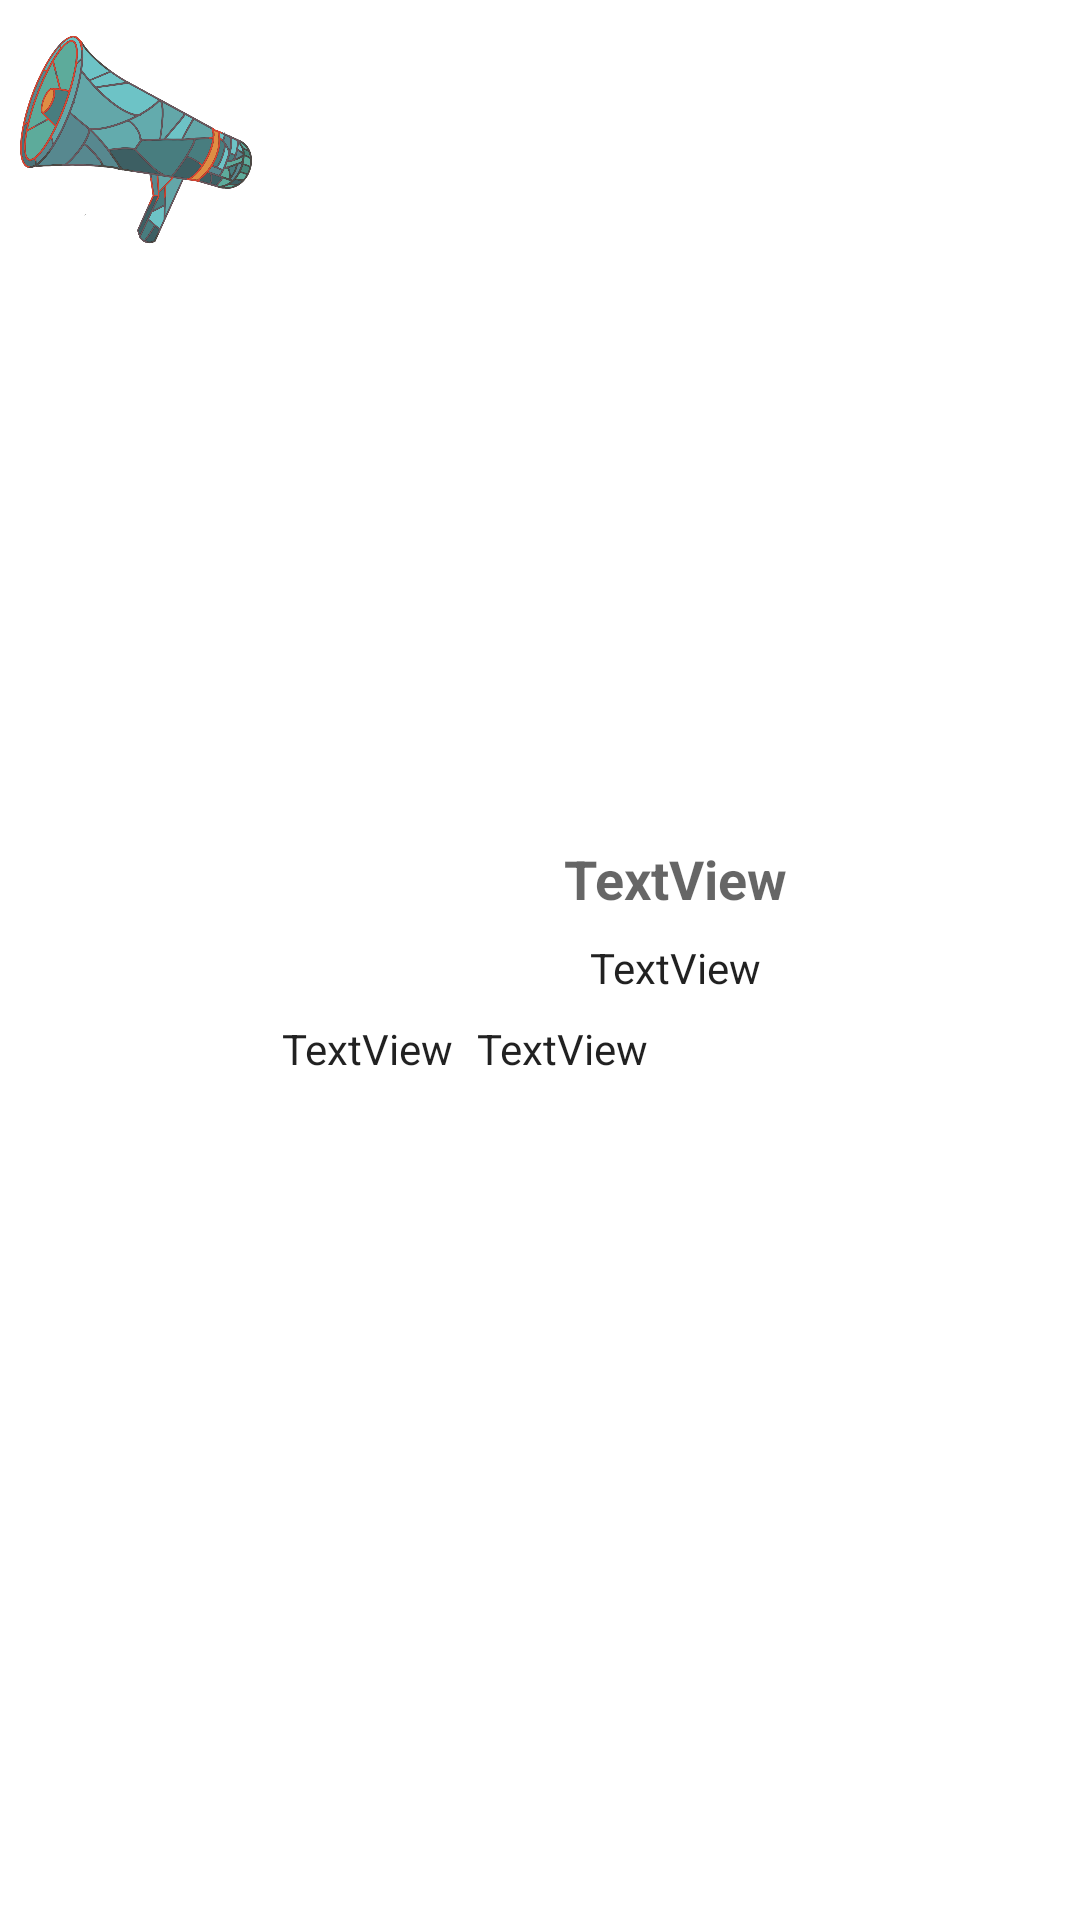

Named icons in this screenshot (1080×1920) and their bounding boxes, bbox(x1, y1, x2, y2):
megafono: bbox(20, 36, 252, 243)
